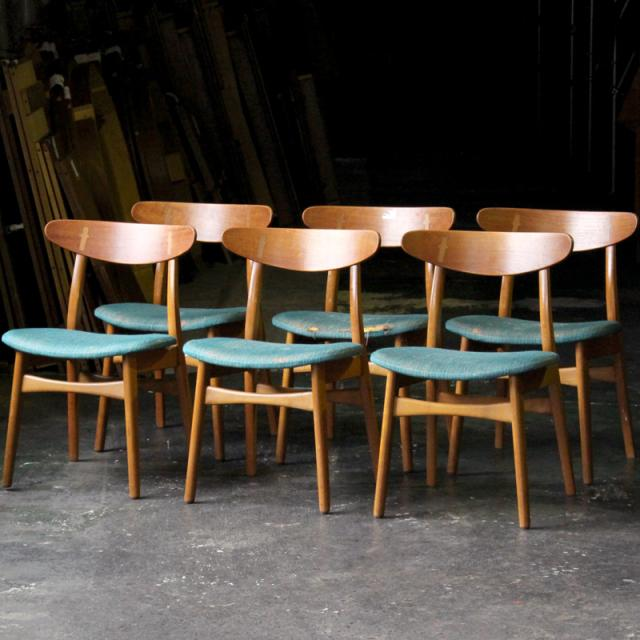chair vintage: (373, 224, 584, 538)
